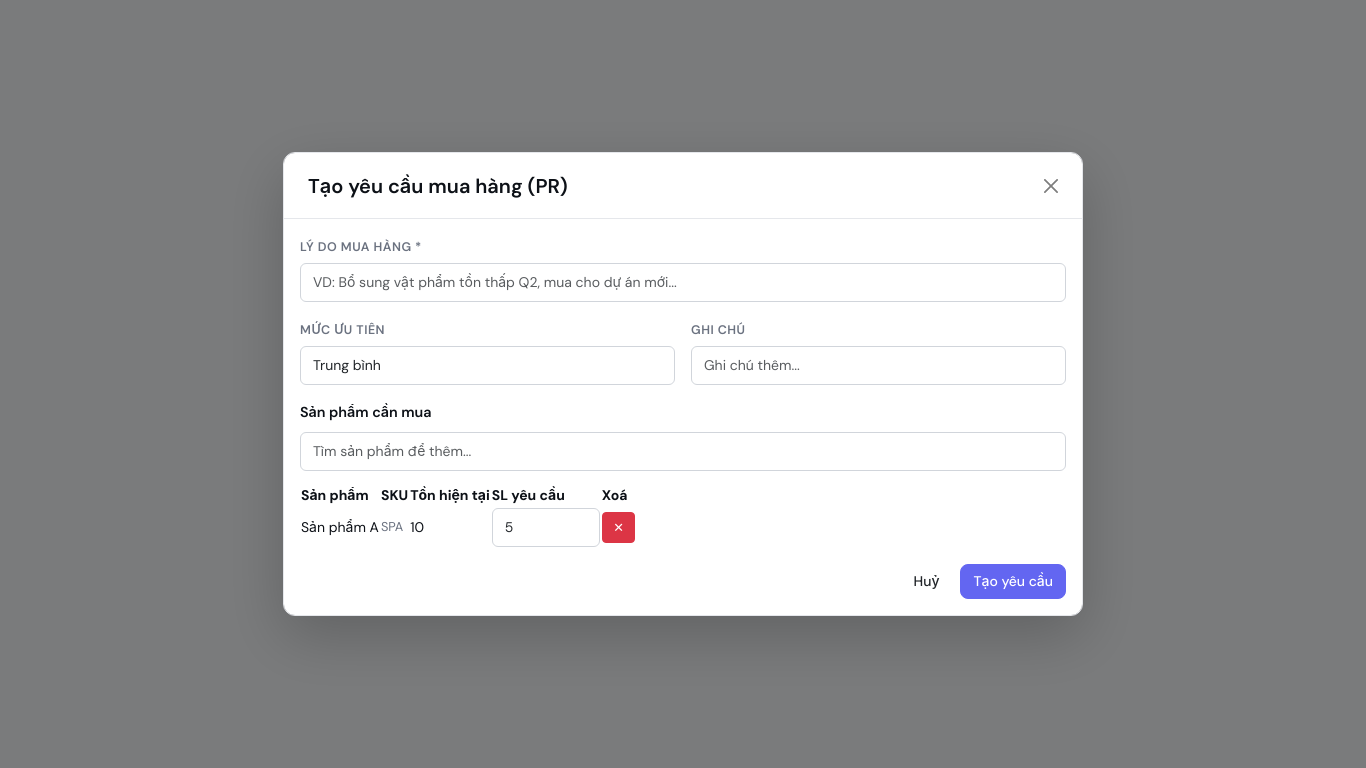
it: PRFormModal Component › removes item from list
This screenshot has width=1366, height=768.
Expected: the text "SPA" is shown, top-left (380, 507), bottom-right (409, 548)
Click the button "✕" at (619, 528), box top-left (602, 512), bottom-right (635, 543)
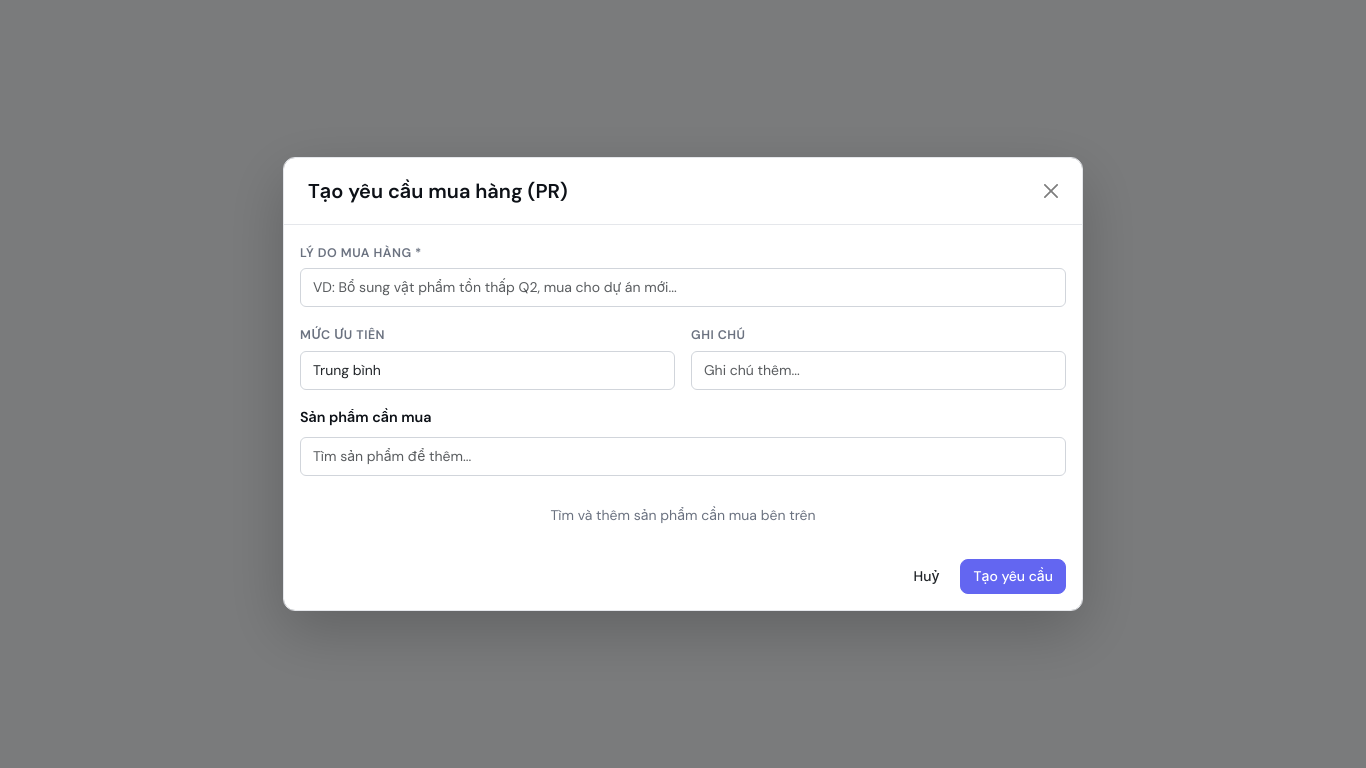
Expected: the text "SPA" is gone
Expected: the text "Tìm và thêm sản phẩm cần mua bên trên" is shown, top-left (550, 506), bottom-right (816, 524)
